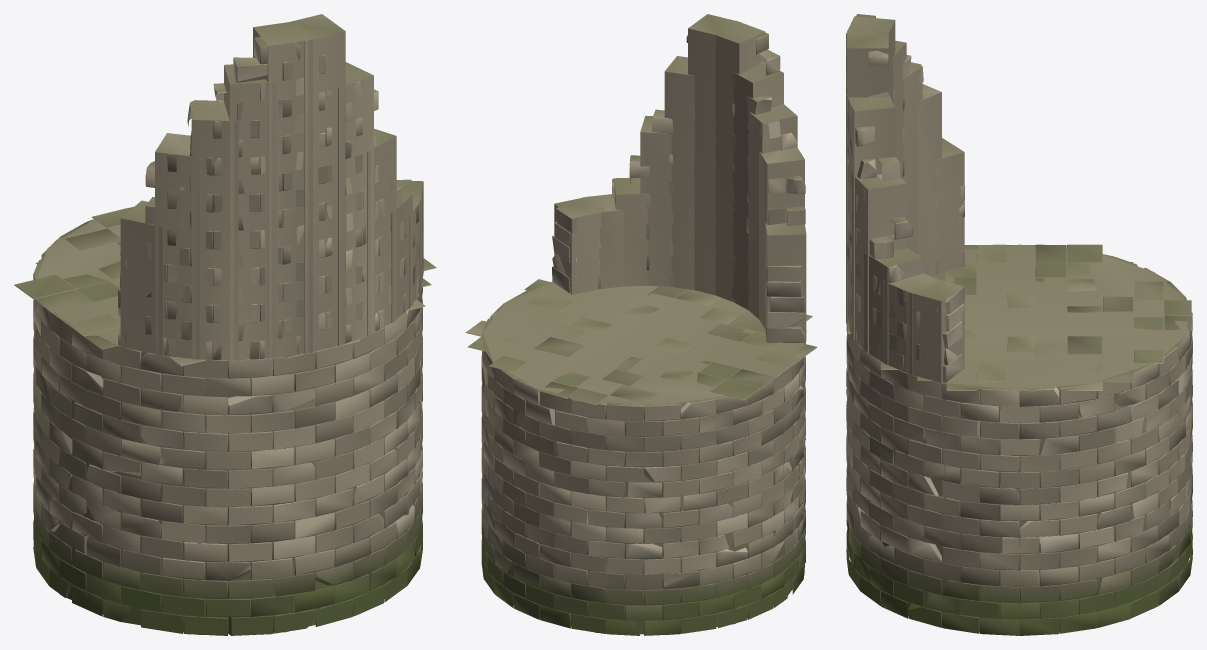
File: citadel_bastion_tall.glb
3 views of the same model, side by side, from view 1: azimuth 30°, elevation 25°; view 2: azimuth 150°, elevation 25°; view 3: azimuth 270°, elevation 25° (orthographic). The views are drawn at different scales.
Visible parts, largest first — view 1: citadel_bastion_tall, citadel_bastion_tall_far; view 2: citadel_bastion_tall, citadel_bastion_tall_far; view 3: citadel_bastion_tall, citadel_bastion_tall_far.
Part boxes in pixels (box(x1,y1,x2,y2)): citadel_bastion_tall: box(14, 37, 436, 635); citadel_bastion_tall_far: box(35, 14, 423, 634); citadel_bastion_tall: box(465, 32, 817, 635); citadel_bastion_tall_far: box(482, 14, 806, 634); citadel_bastion_tall: box(846, 14, 1192, 635); citadel_bastion_tall_far: box(846, 16, 1187, 635).
Bounding box in the file's own units: 42.29 × 70.4 × 42.27.
